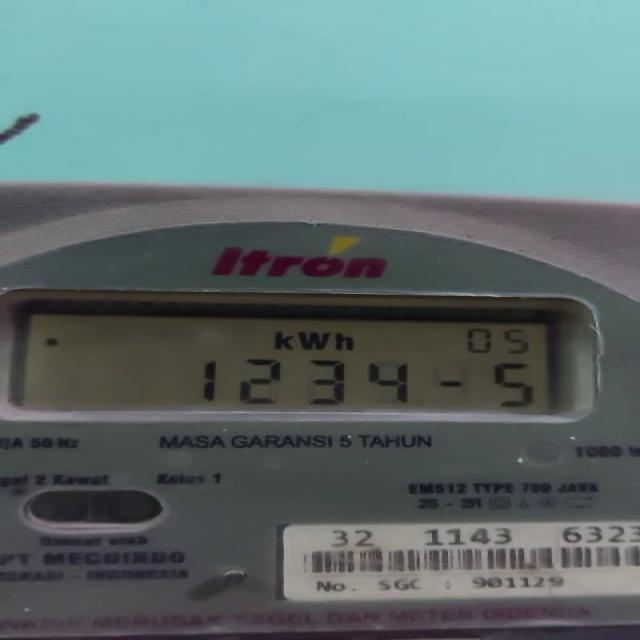LCD: (15, 290, 601, 432)
